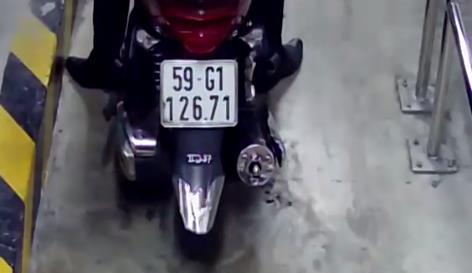lisence: (159, 58, 238, 126)
